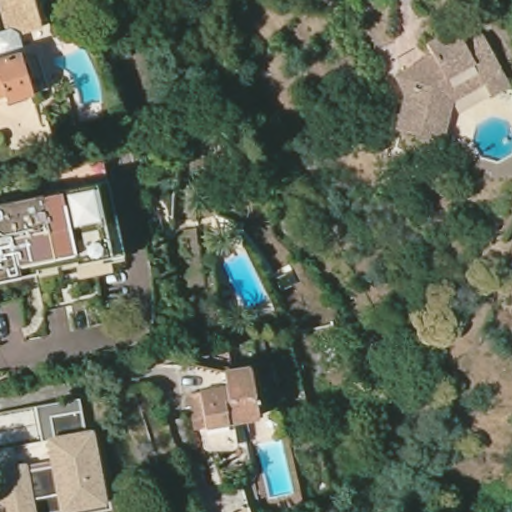pool: (217, 248, 270, 316), (55, 48, 106, 105), (253, 439, 295, 497), (472, 115, 512, 164)
